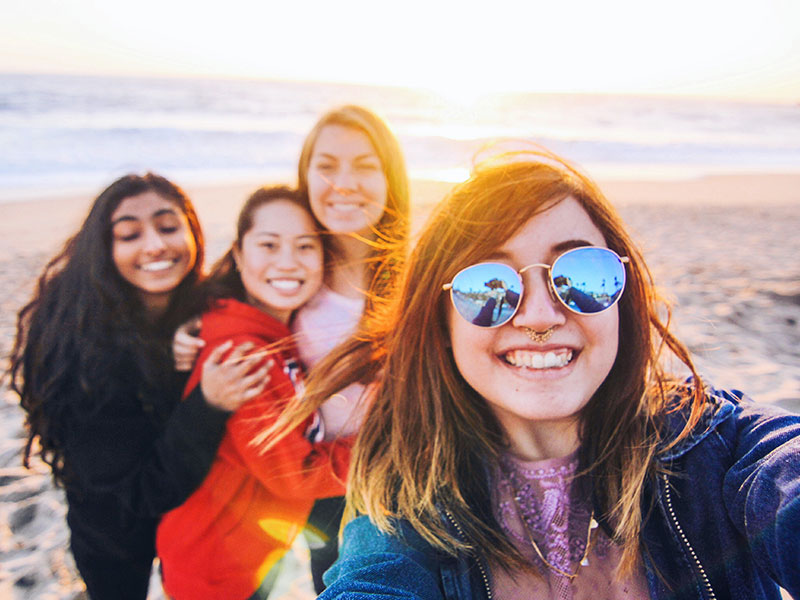bare: (446, 305, 618, 416), (236, 251, 330, 313), (109, 242, 196, 290), (307, 180, 387, 232)
